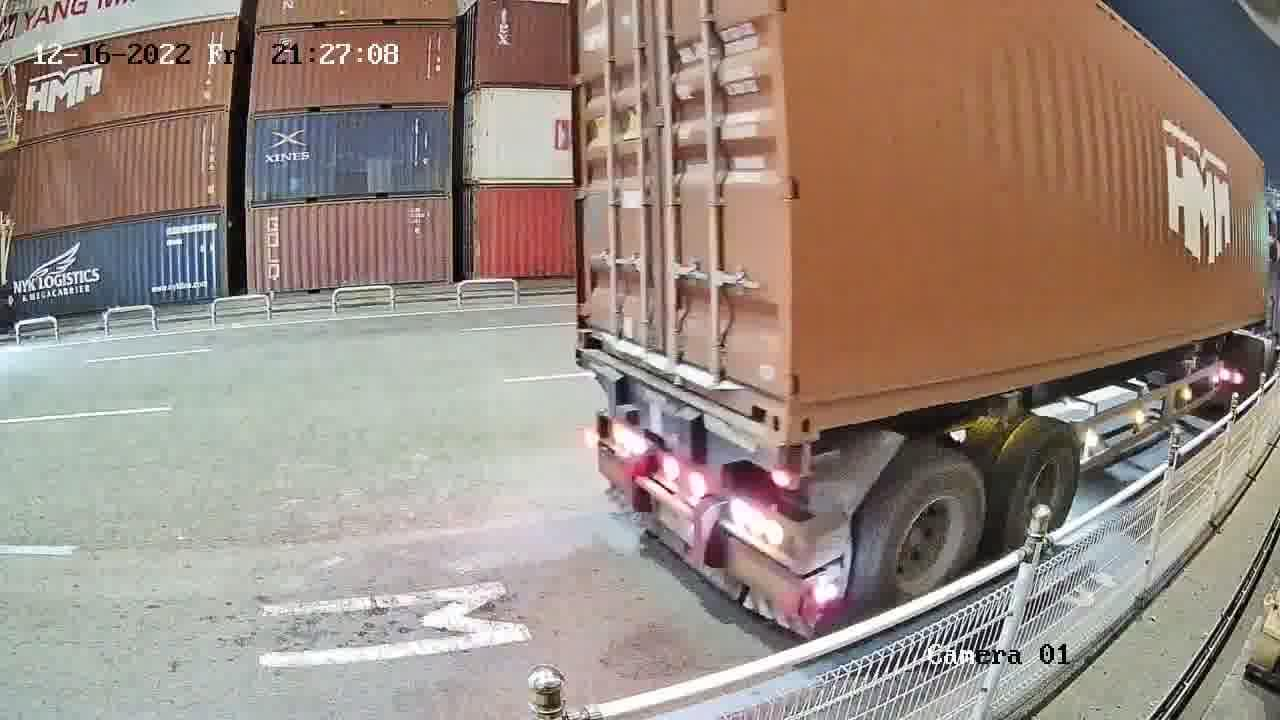Chassis: (576, 349, 788, 474)
Cone: (790, 437, 819, 480)
Hole_L: (789, 364, 854, 440), (574, 303, 610, 359)
Hole_R: (740, 359, 791, 440)
Tire: (875, 460, 984, 602), (1008, 423, 1085, 549)
